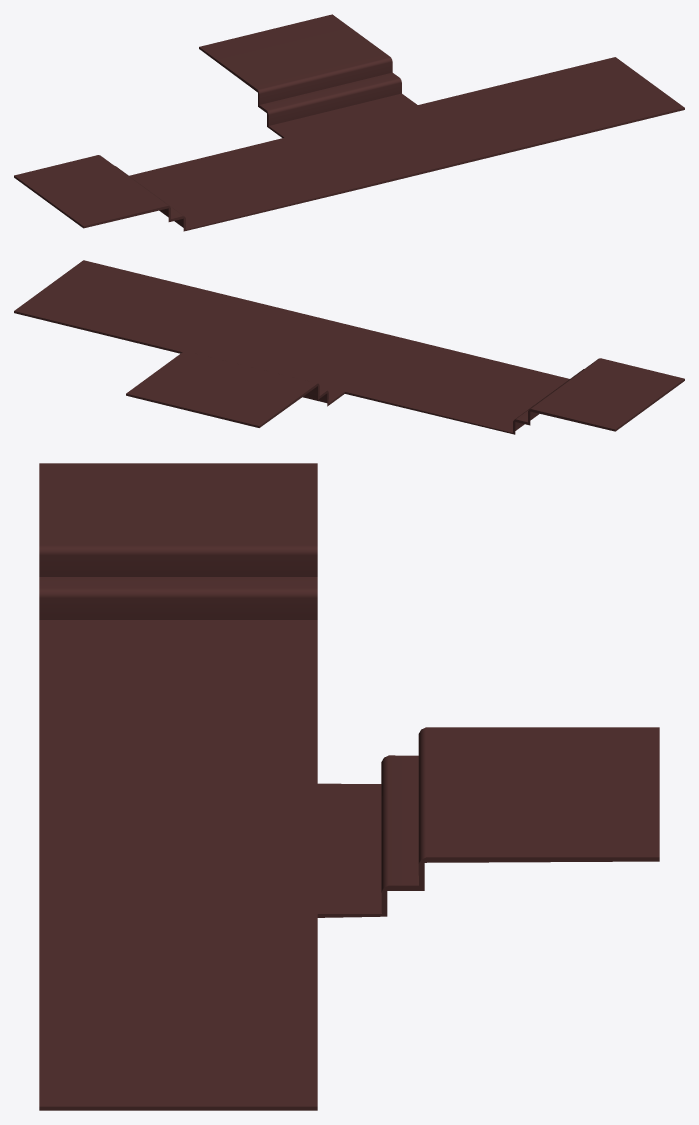
Rendered from carpetN.fbx.
3 renders of one model, top to bottom at view 1: azimuth 30°, elevation 25°; view 2: azimuth 150°, elevation 25°; view 3: azimuth 270°, elevation 25°, orthographic. The views are drawn at different scales.
Visible parts, largest first — view 1: floor1.001; view 2: floor1.001; view 3: floor1.001.
Boxes of the visible parts, x1,y1,x2,y2 form: floor1.001: [14, 14, 684, 231]; floor1.001: [14, 260, 684, 434]; floor1.001: [39, 463, 659, 1110].
Size of the model in its own units: 1220 by 58.64 by 545.
